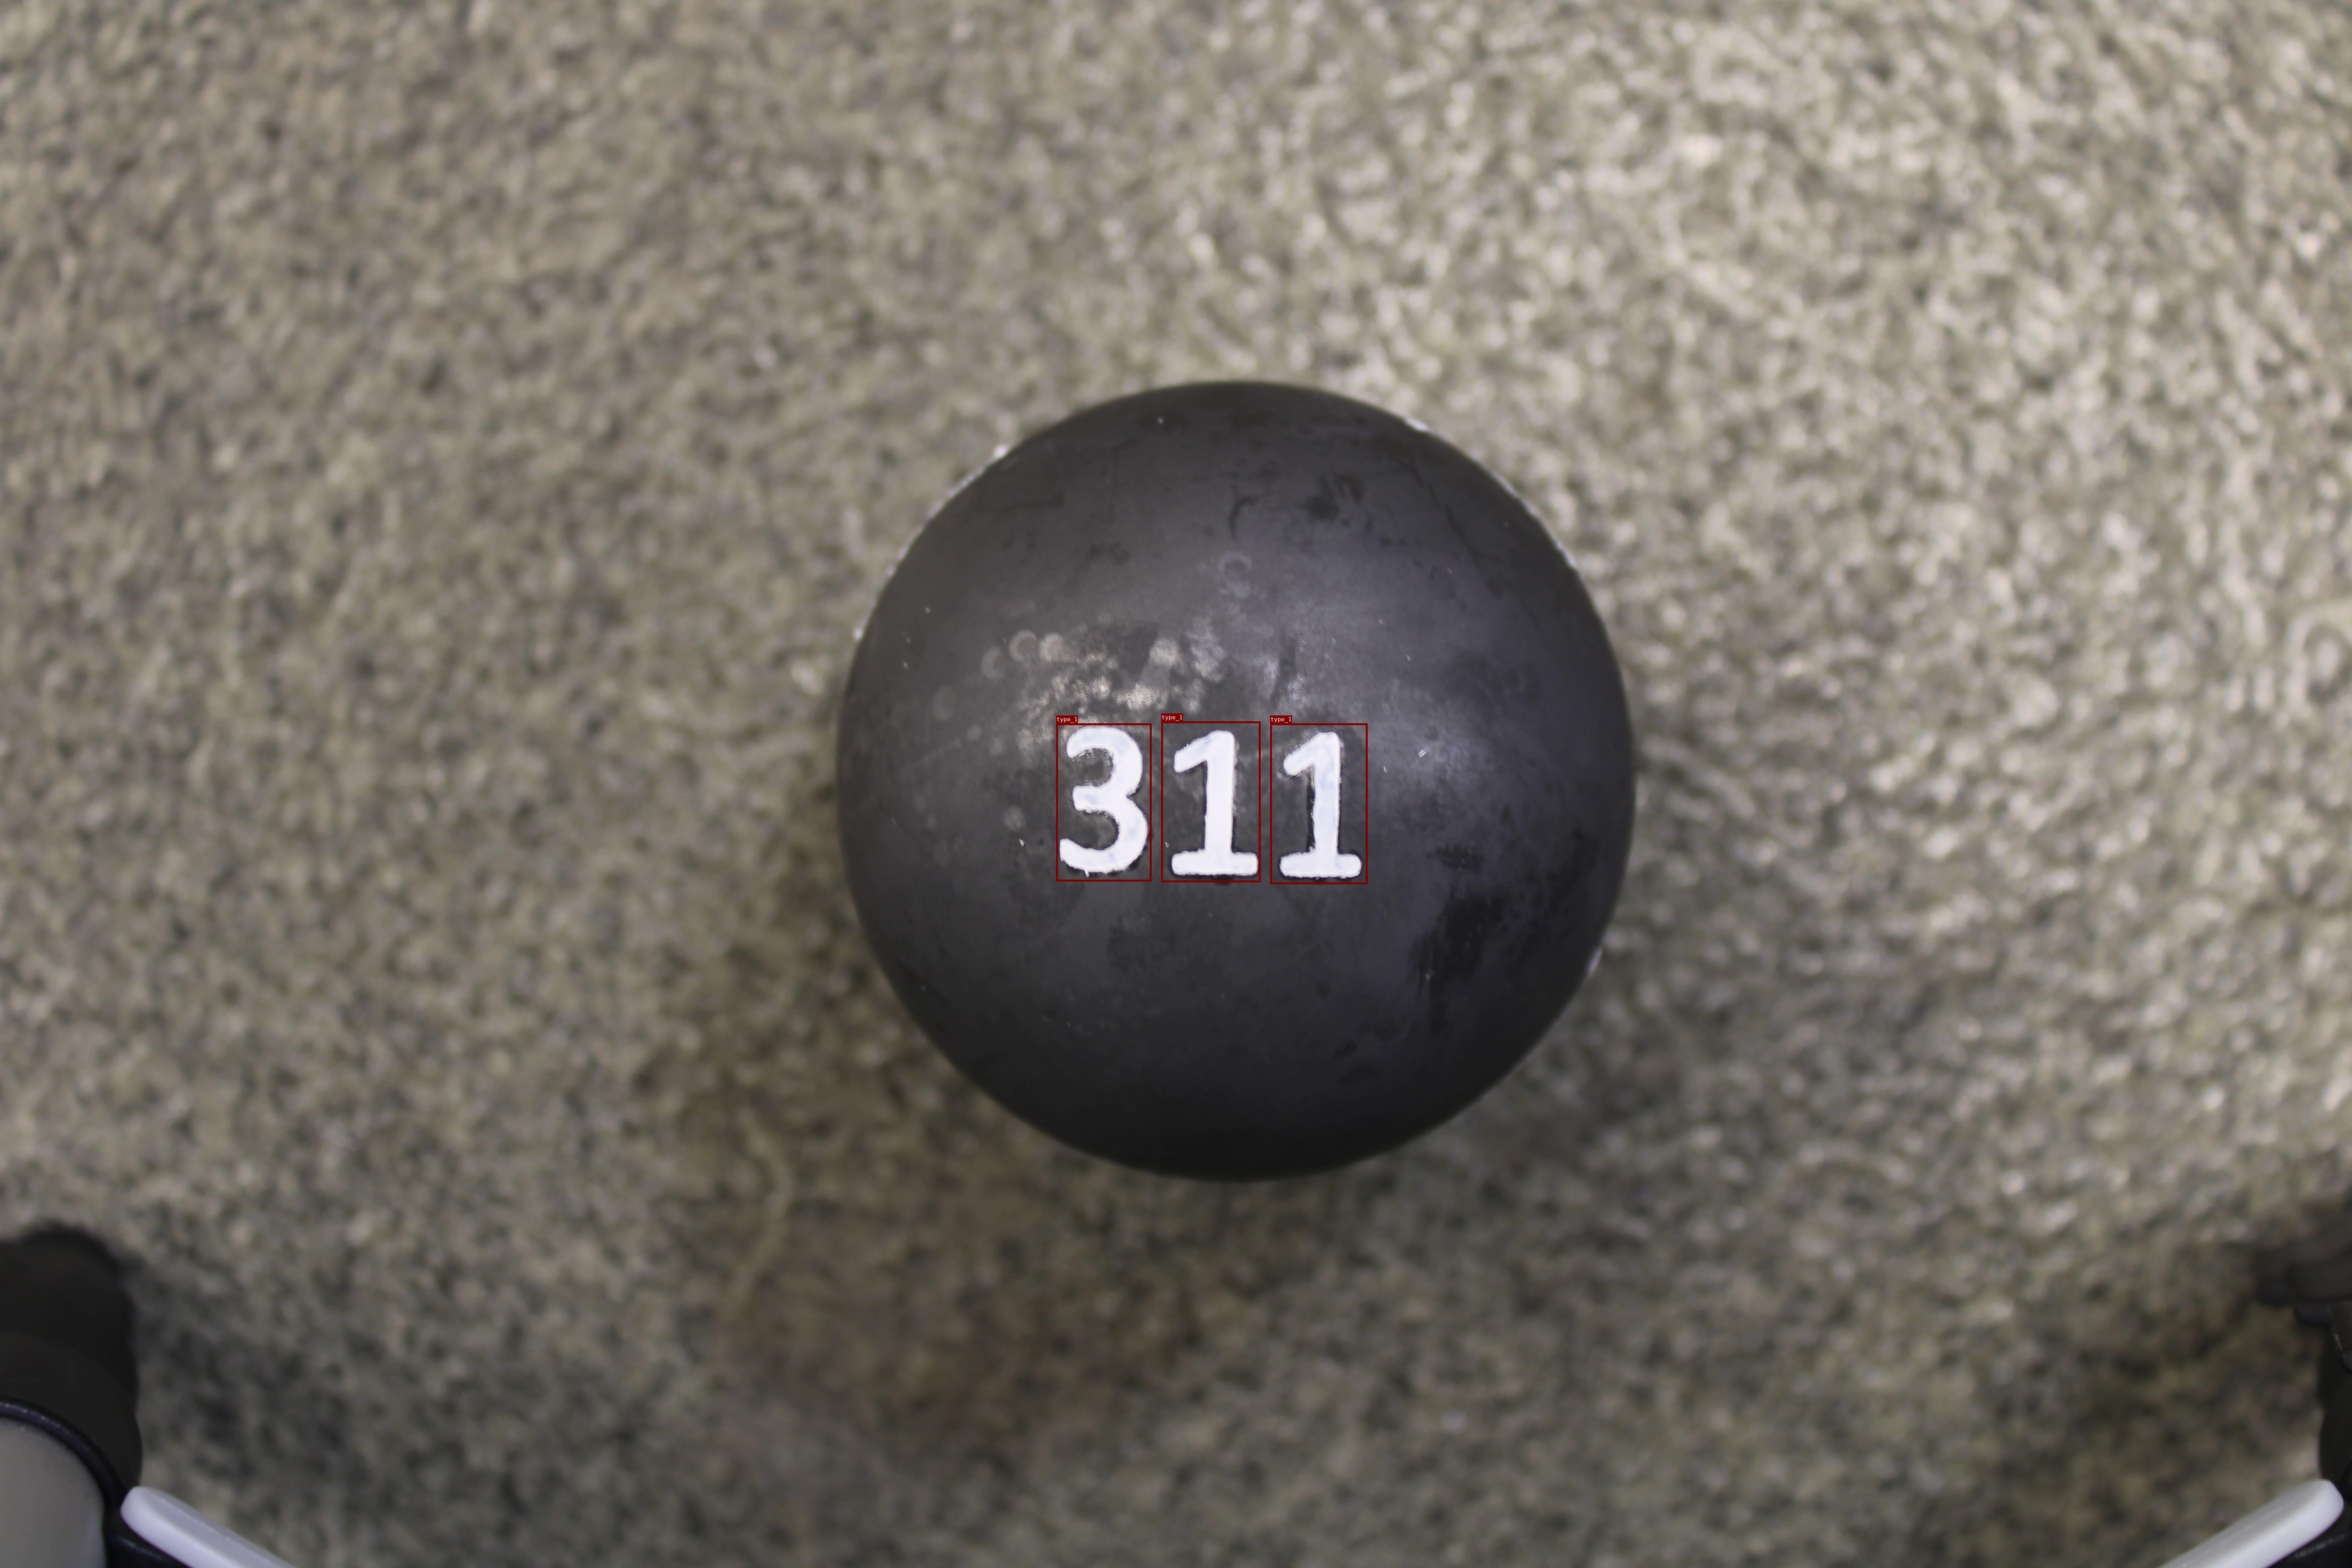type_1: (1160, 721, 1260, 882), (1270, 723, 1367, 884), (1055, 723, 1151, 882)
